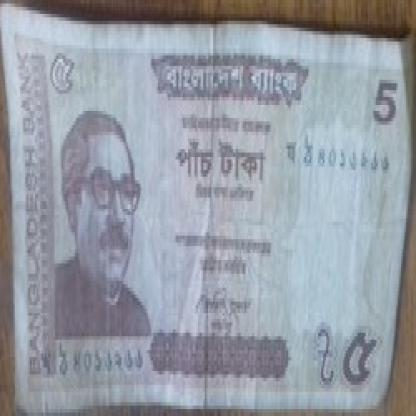Five Taka: (334, 319, 383, 399), (40, 42, 80, 94), (371, 73, 401, 135)
